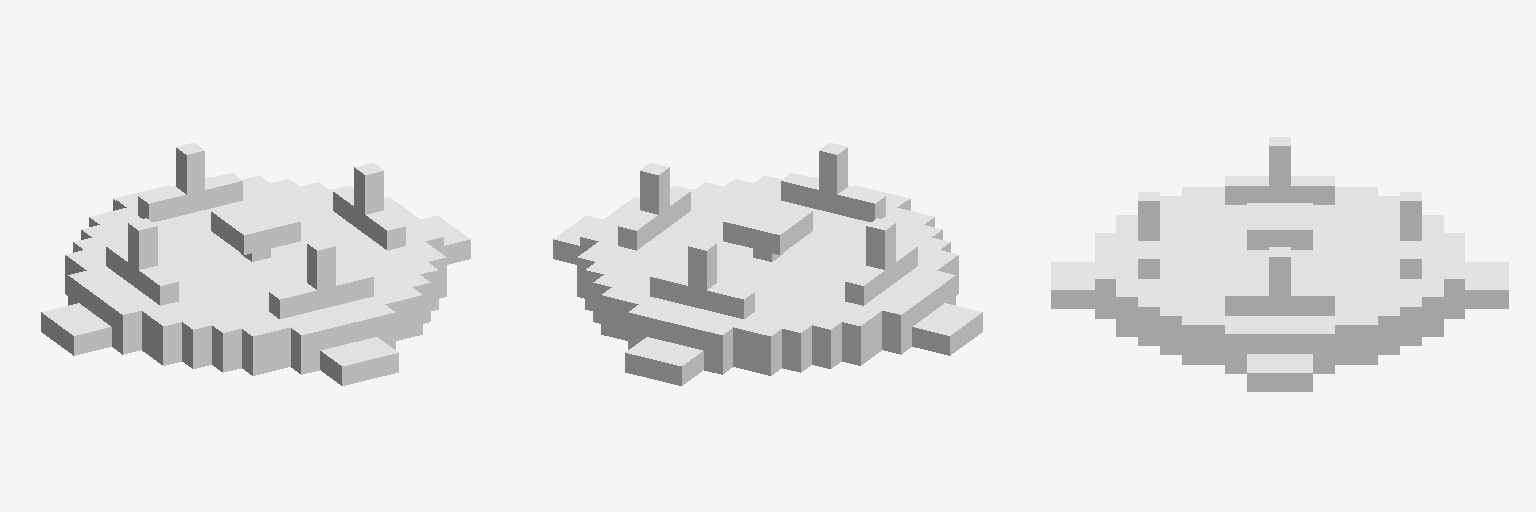
The model's file is pelicano_coupler.obj.
3 renders of one model, left to right at view 1: azimuth 30°, elevation 25°; view 2: azimuth 150°, elevation 25°; view 3: azimuth 270°, elevation 25°, orthographic.
Visible parts, largest first — view 1: object 1; view 2: object 1; view 3: object 1.
Boxes of the visible parts, box(x1,y1,x2,y2) form: object 1: box(41, 142, 470, 385); object 1: box(553, 142, 982, 385); object 1: box(1051, 137, 1508, 391).
Size of the model in its own units: 2.1 by 0.6 by 2.1.